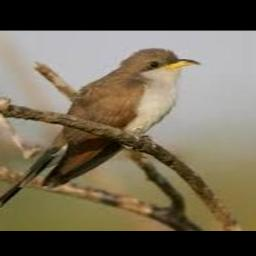Cuckoo: (0, 48, 200, 227)
